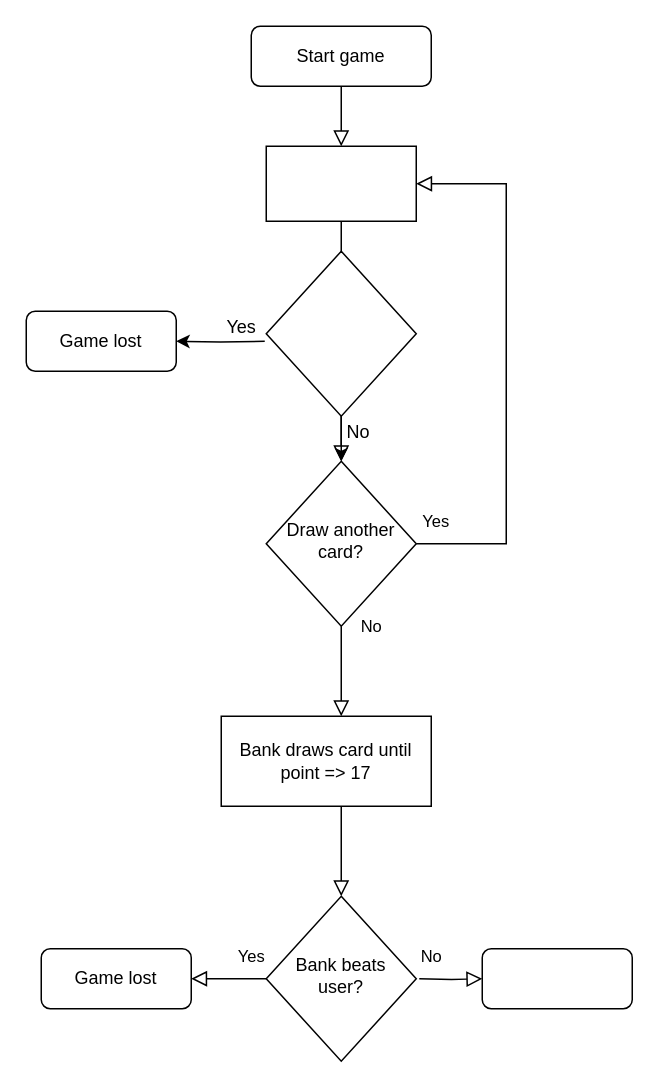
Some shapes in this 659 by 1088 pixel diagram are drawn without their labels. The centre of each missing label's shape, as x and y in pixels:
"Draw player card" belongs at (340,183).
"Game won" belongs at (556,978).
"Over 21?" belongs at (340,333).
